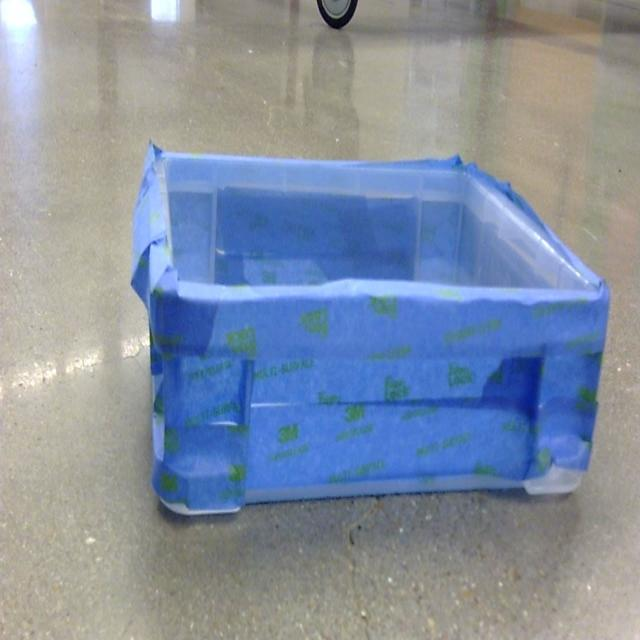bucket: (128, 144, 612, 523)
